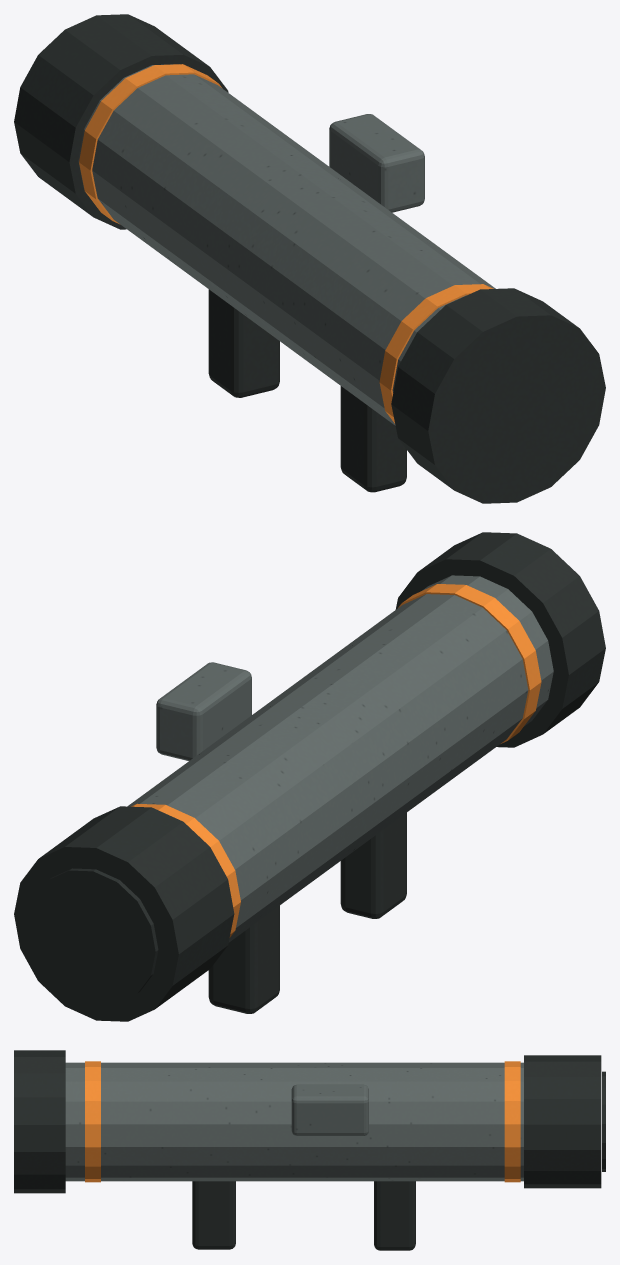
File: rocket_0.glb
3 renders of one model, top to bottom at view 1: azimuth 30°, elevation 25°; view 2: azimuth 150°, elevation 25°; view 3: azimuth 270°, elevation 25°, orthographic. The views are drawn at different scales.
Visible parts, largest first — view 1: Weapon_rocket; view 2: Weapon_rocket; view 3: Weapon_rocket.
Part boxes in pixels (x1,y1,x2,y2): Weapon_rocket: [14, 14, 605, 503]; Weapon_rocket: [14, 532, 605, 1021]; Weapon_rocket: [14, 1050, 605, 1250].
Bounding box in the file's own units: 0.2475 × 0.321 × 0.917.
3 materials, 3 textured.
